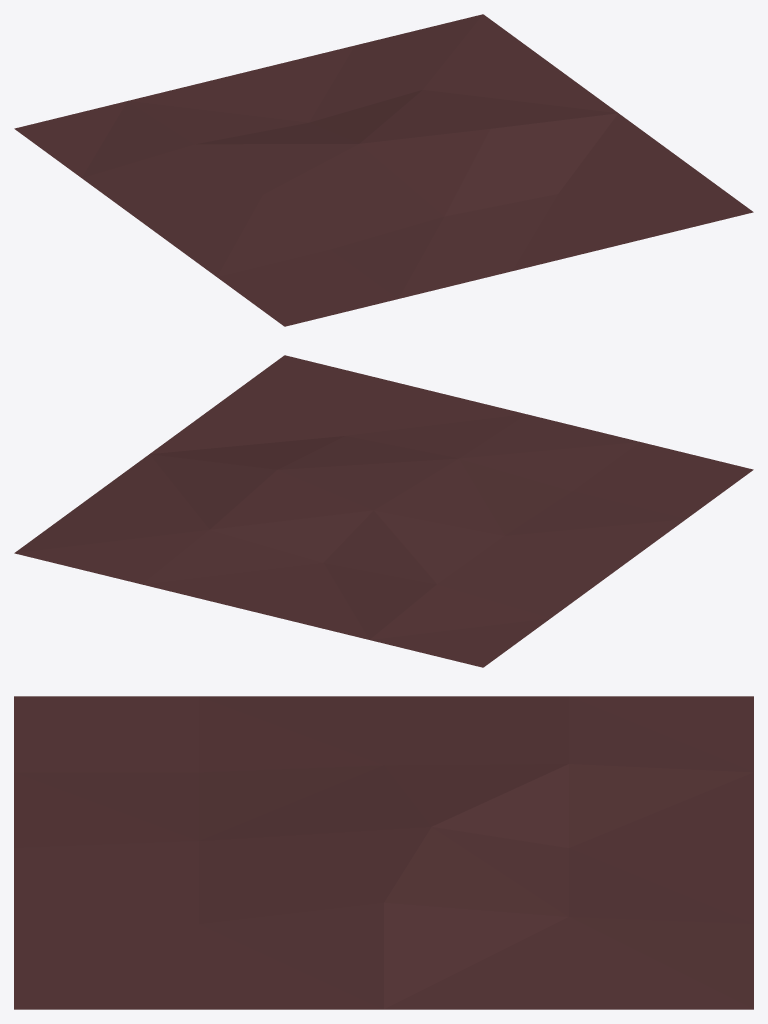
Rendered from SM_Env_Path_Dirt_05.glb.
3 views of the same model, one above another, from view 1: azimuth 30°, elevation 25°; view 2: azimuth 150°, elevation 25°; view 3: azimuth 270°, elevation 25° (orthographic). The views are drawn at different scales.
Parts seen in each view (by area): view 1: SM_Env_Path_Dirt_05; view 2: SM_Env_Path_Dirt_05; view 3: SM_Env_Path_Dirt_05.
Part boxes in pixels (x1,y1,x2,y2): SM_Env_Path_Dirt_05: [14, 14, 753, 326]; SM_Env_Path_Dirt_05: [14, 355, 753, 667]; SM_Env_Path_Dirt_05: [14, 696, 753, 1009].
Size of the model in its own units: 3 by 0.0957 by 3.
1 material, 1 textured.
